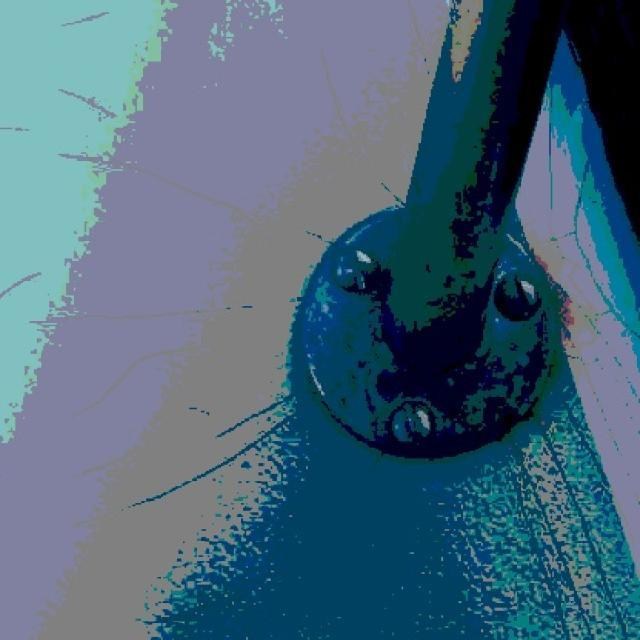crack: (157, 411, 318, 517), (212, 383, 305, 425)
